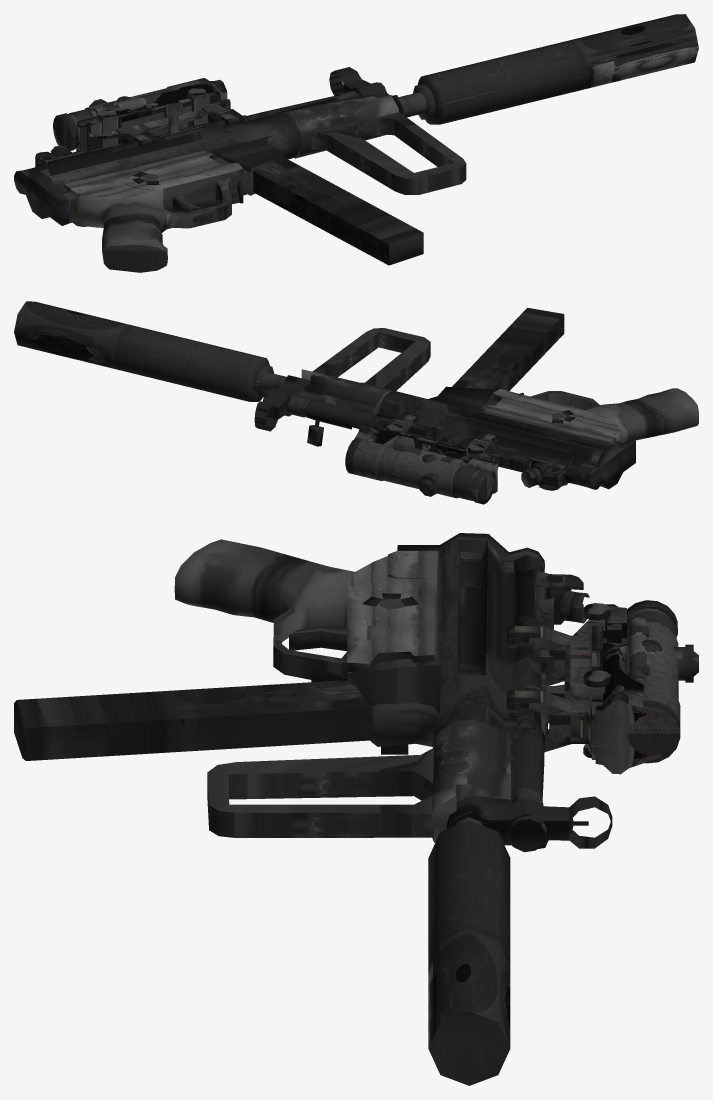
Rendered from t5_weapon_mp5_world.glb.
3 renders of one model, top to bottom at view 1: azimuth 30°, elevation 25°; view 2: azimuth 150°, elevation 25°; view 3: azimuth 270°, elevation 25°, orthographic. The views are drawn at different scales.
Parts seen in each view (by area): view 1: t5_weapon_mp5_world; view 2: t5_weapon_mp5_world; view 3: t5_weapon_mp5_world.
Part boxes in pixels (<box>): t5_weapon_mp5_world: <box>14,14,698,272</box>; t5_weapon_mp5_world: <box>14,301,698,504</box>; t5_weapon_mp5_world: <box>14,533,698,1085</box>.
Bounding box in the file's own units: 0.6681 × 0.0586 × 0.3911.
9 materials, 9 textured.
